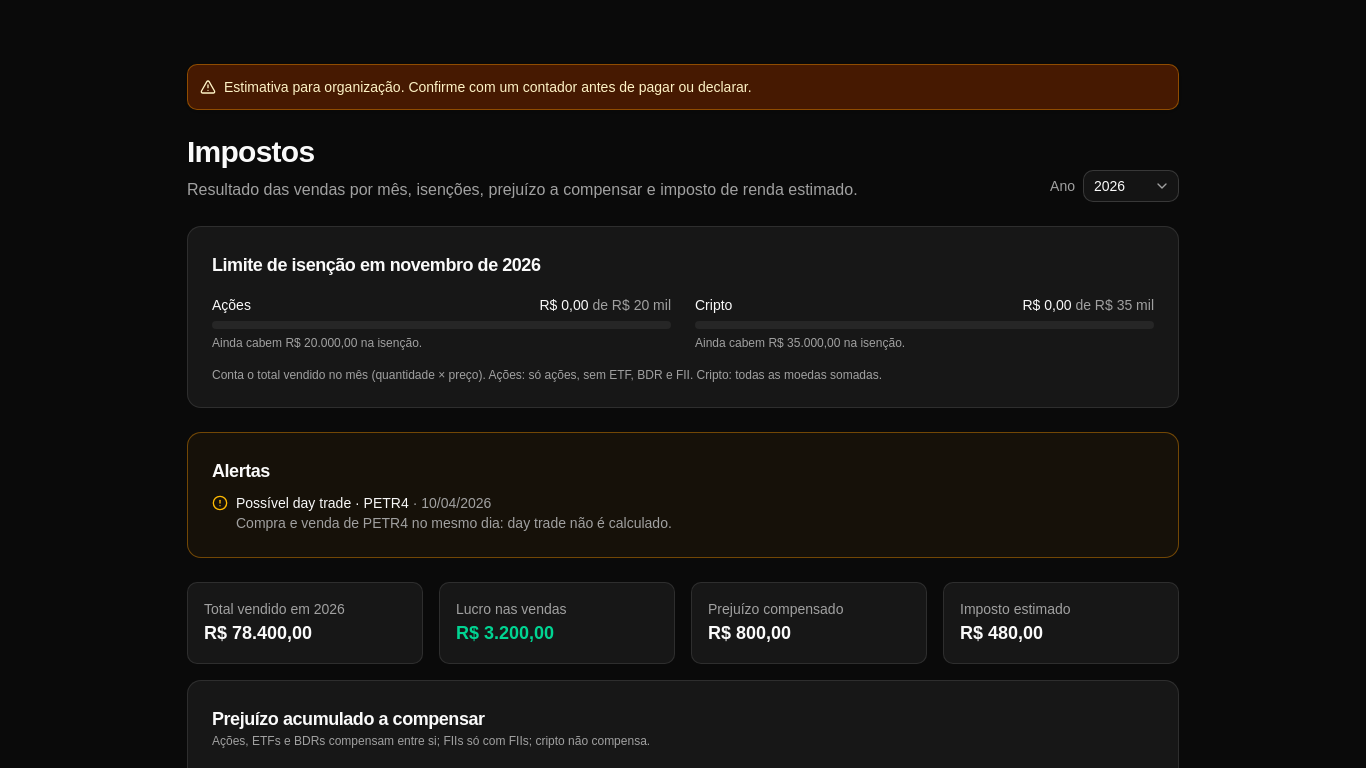
ImpostosPage › trocar o ano busca os resultados daquele ano
Click the dropdown named "Ano". click: (1131, 186)
box: x1=1083 y1=170 x2=1179 y2=202
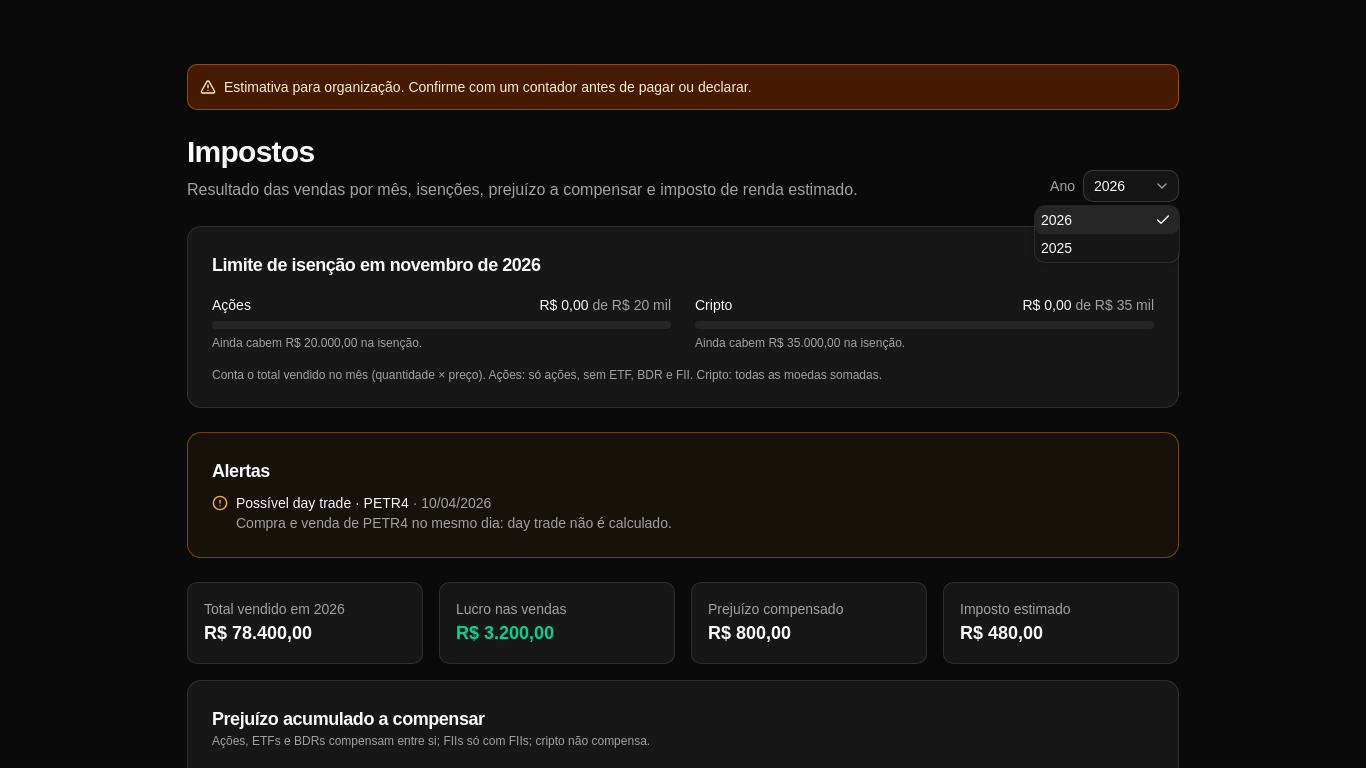
Click the option "2025". click: (1057, 248)
box: x1=1041 y1=240 x2=1072 y2=256
(page scrolled)
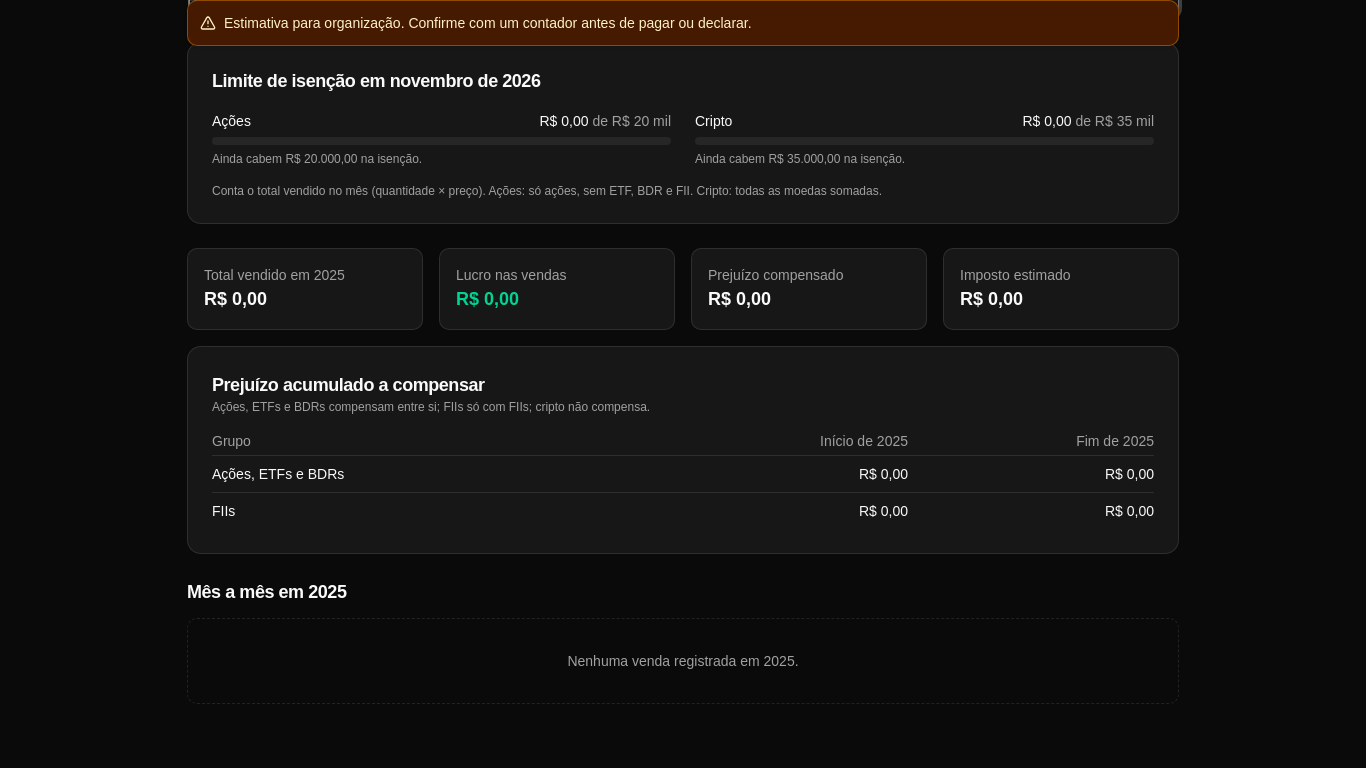
Check: the text "Nenhuma venda registrada em 2025." is shown, box x1=187 y1=618 x2=1179 y2=704
